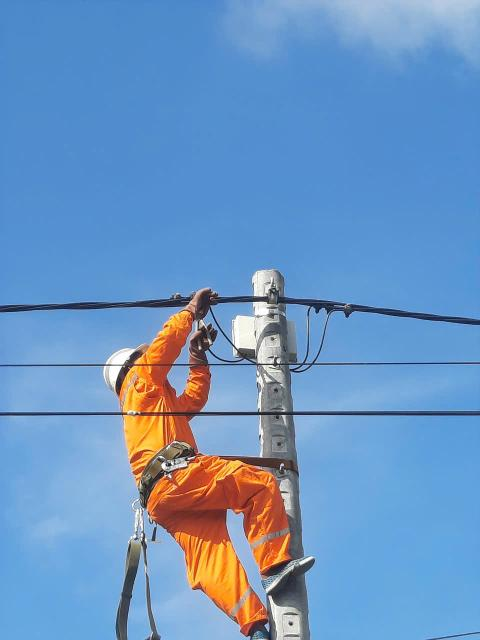gloves: (170, 281, 224, 318), (177, 326, 222, 366)
harness: (122, 438, 210, 511)
helmet: (85, 342, 160, 393)
shoes: (246, 558, 333, 593), (237, 624, 282, 640)
